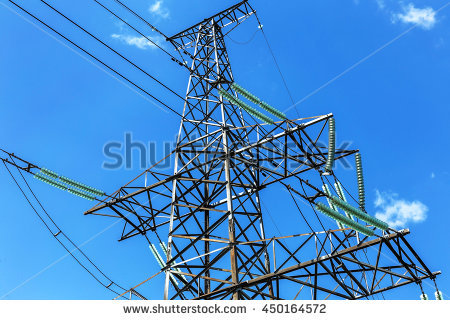isolator: (218, 82, 287, 125), (315, 196, 388, 236), (32, 166, 105, 202), (148, 242, 189, 288), (322, 182, 357, 231), (354, 152, 365, 212), (325, 118, 336, 172)
